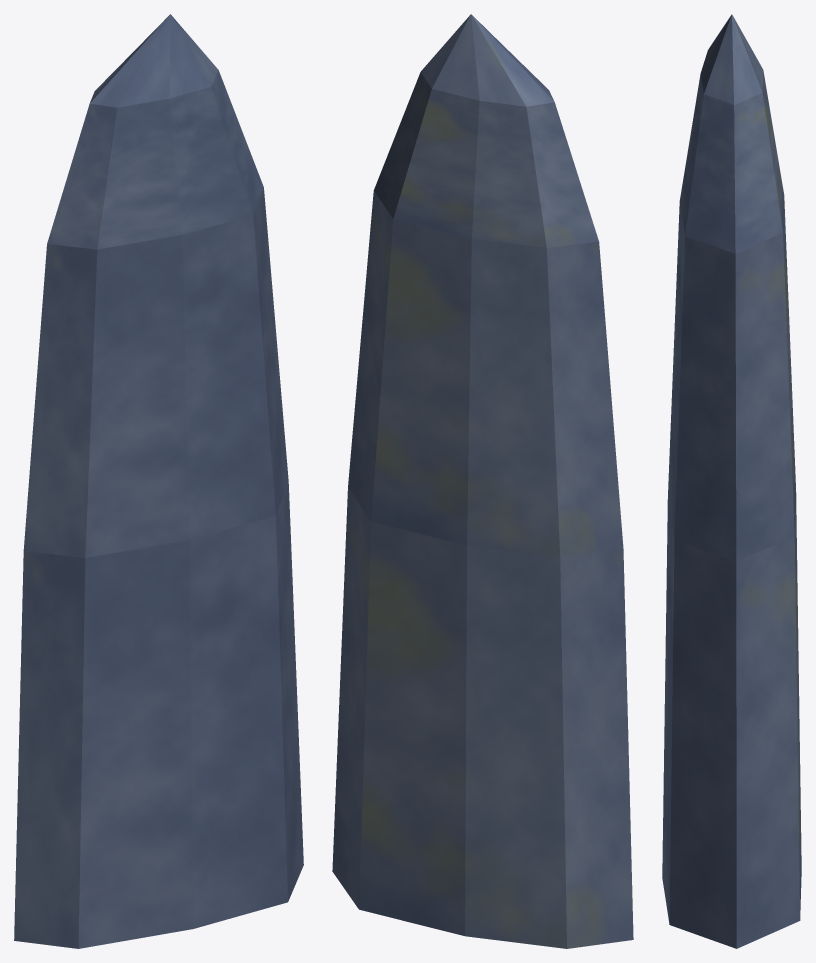
File: Oracle_Menhir_2.gltf
The picture shows the model from 3 angles, left to right: view 1: azimuth 30°, elevation 25°; view 2: azimuth 150°, elevation 25°; view 3: azimuth 270°, elevation 25°; orthographic projection. The views are drawn at different scales.
Visible parts, largest first — view 1: Oracle_Menhir_2; view 2: Oracle_Menhir_2; view 3: Oracle_Menhir_2.
Part boxes in pixels (bbox=[...]): Oracle_Menhir_2: bbox=[14, 14, 303, 948]; Oracle_Menhir_2: bbox=[332, 14, 633, 948]; Oracle_Menhir_2: bbox=[662, 14, 801, 948].
Size of the model in its own units: 1.69 by 4.85 by 0.7041.
Materials: 1 (1 with a texture image).
